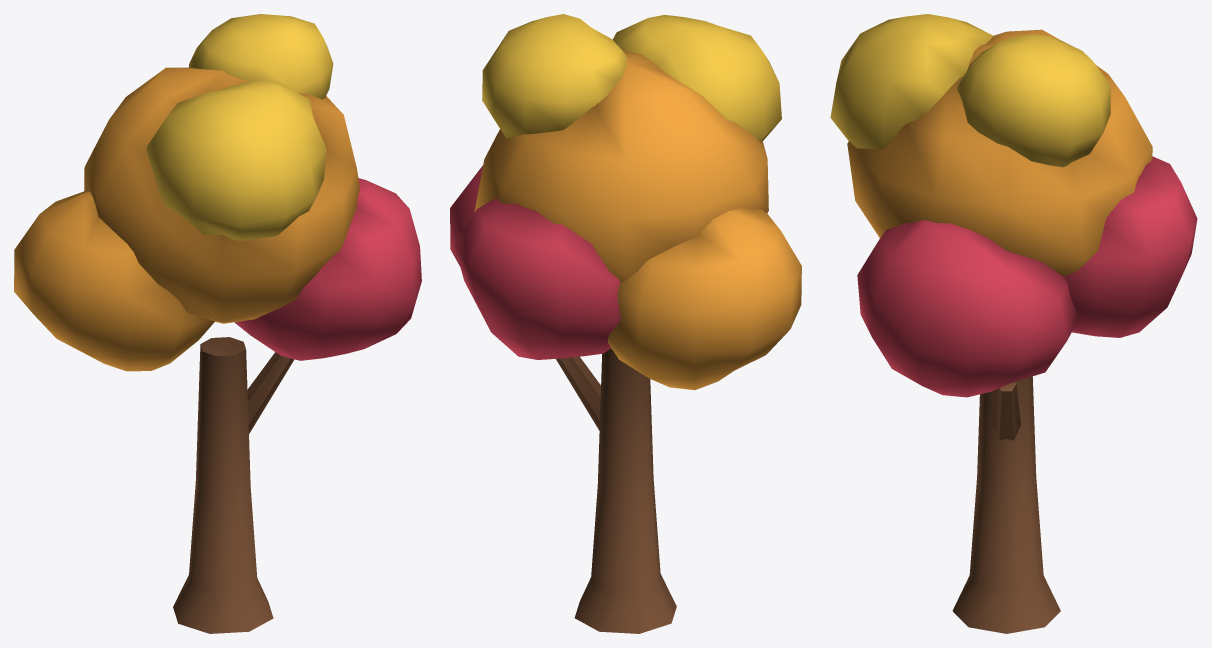
File: tree_round_autumn.glb
3 views of the same model, side by side, from view 1: azimuth 30°, elevation 25°; view 2: azimuth 150°, elevation 25°; view 3: azimuth 270°, elevation 25° (orthographic). The views are drawn at different scales.
Visible parts, largest first — view 1: Tree; view 2: Tree; view 3: Tree.
Boxes of the visible parts, bbox=[...] form: Tree: bbox=[14, 14, 421, 633]; Tree: bbox=[450, 14, 801, 633]; Tree: bbox=[830, 14, 1197, 633].
Size of the model in its own units: 0.8502 by 1.33 by 0.7441.
1 material, 1 textured.
